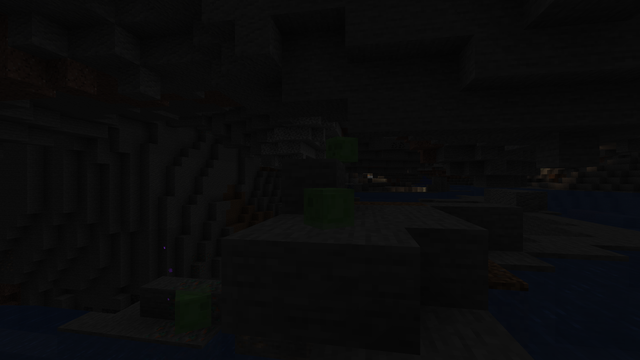slimes: (166, 282, 216, 332), (305, 186, 347, 228), (327, 135, 353, 162)
